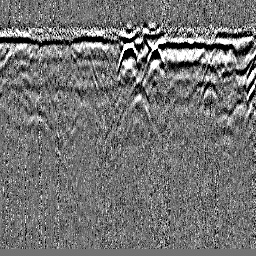cavity: (118, 39, 139, 70)
